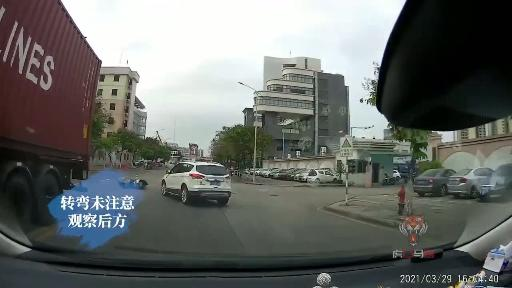Accident: (119, 173, 150, 197)
CAR: (165, 159, 237, 212), (412, 170, 486, 196), (306, 169, 335, 185)
Truck: (1, 0, 94, 223)
